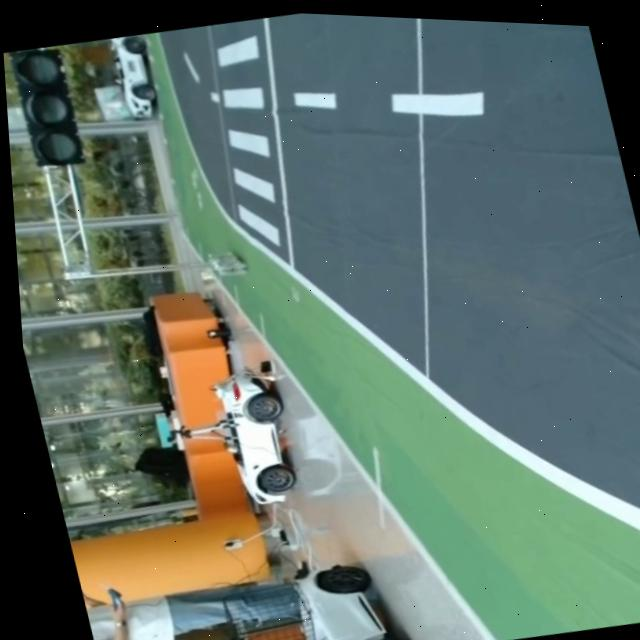traffic-light: (6, 42, 90, 176)
